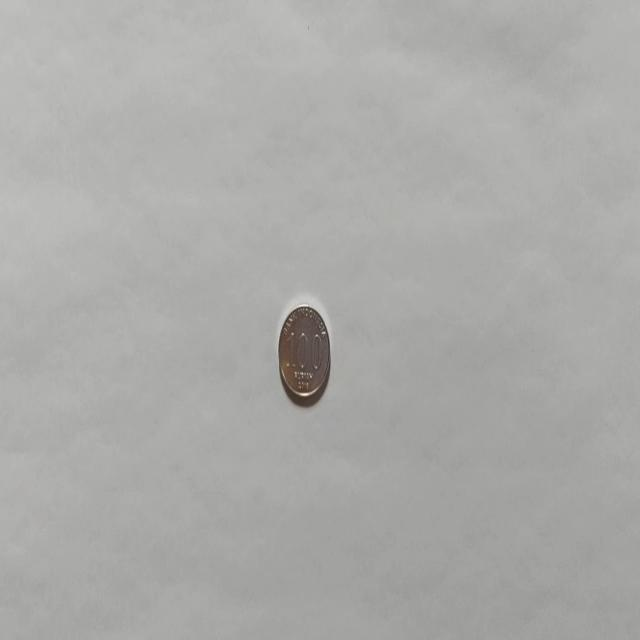seratus rupiah: (277, 302, 331, 406)
